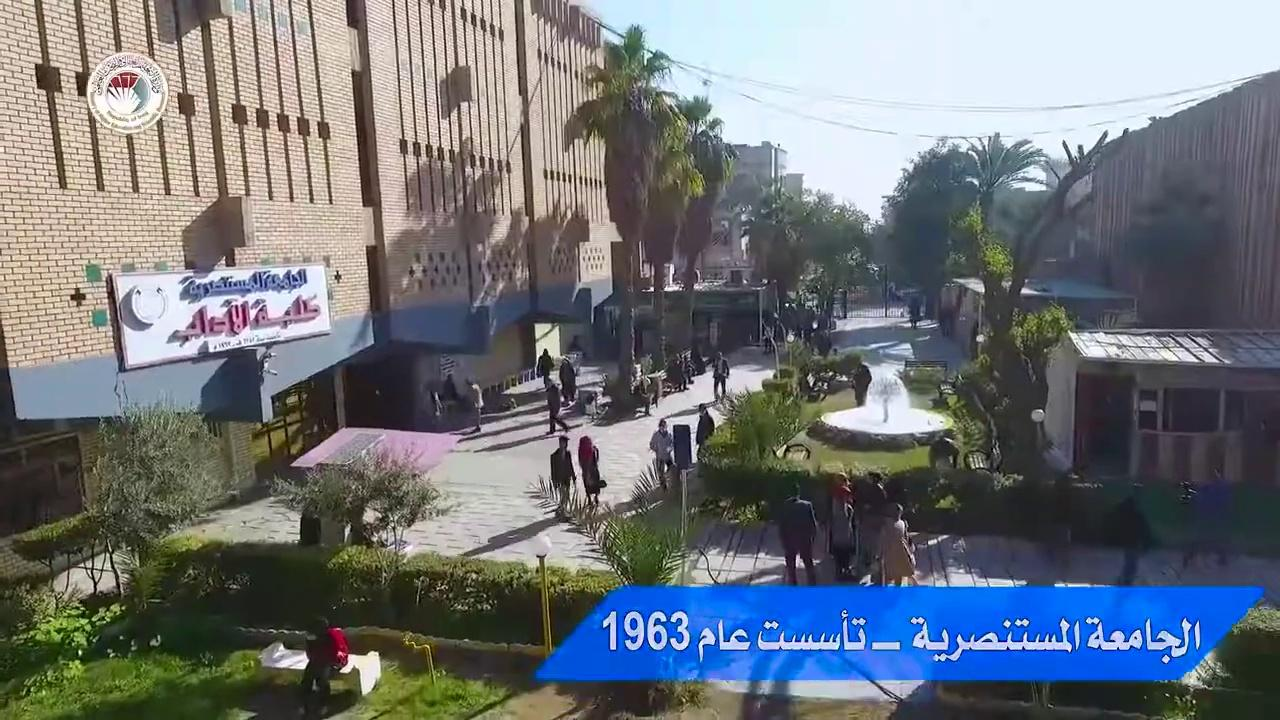fountain: (814, 358, 951, 448)
person: (297, 614, 349, 717), (1181, 466, 1233, 569), (777, 482, 819, 585), (1113, 494, 1152, 585), (827, 472, 857, 576), (549, 434, 576, 519), (648, 417, 674, 490), (578, 434, 602, 506), (694, 403, 714, 477), (545, 379, 569, 435), (710, 350, 729, 400), (851, 360, 871, 407), (558, 355, 576, 406), (469, 380, 484, 432), (536, 348, 554, 389)
tree: (932, 127, 1121, 478), (560, 22, 727, 402), (11, 386, 239, 610), (526, 462, 708, 717), (730, 174, 878, 377), (937, 130, 1047, 341), (268, 441, 447, 553), (696, 383, 823, 525), (879, 143, 976, 321), (1143, 603, 1279, 718), (666, 93, 740, 291), (791, 189, 876, 352), (734, 175, 809, 340), (939, 130, 1047, 236), (770, 329, 862, 402), (933, 392, 994, 472)
